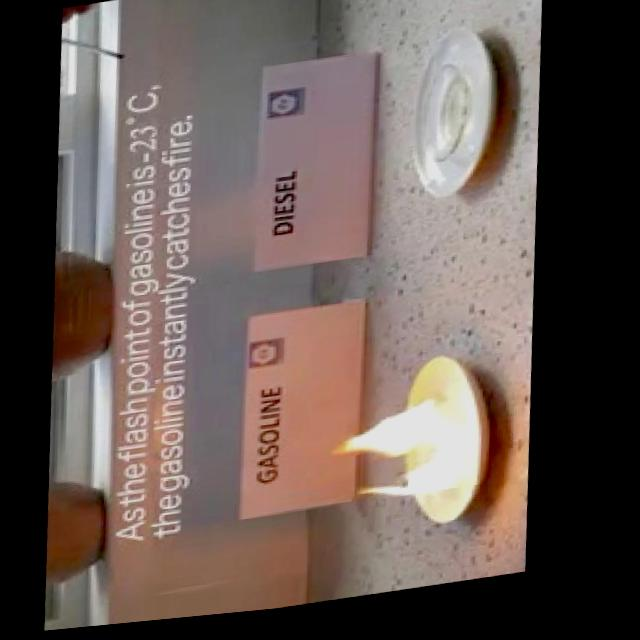helmet: (330, 387, 497, 535)
